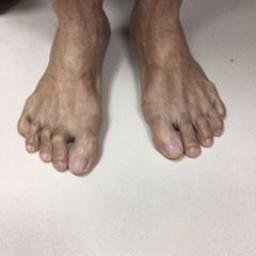Dorsal View -Both Feet-: (13, 4, 232, 194)
